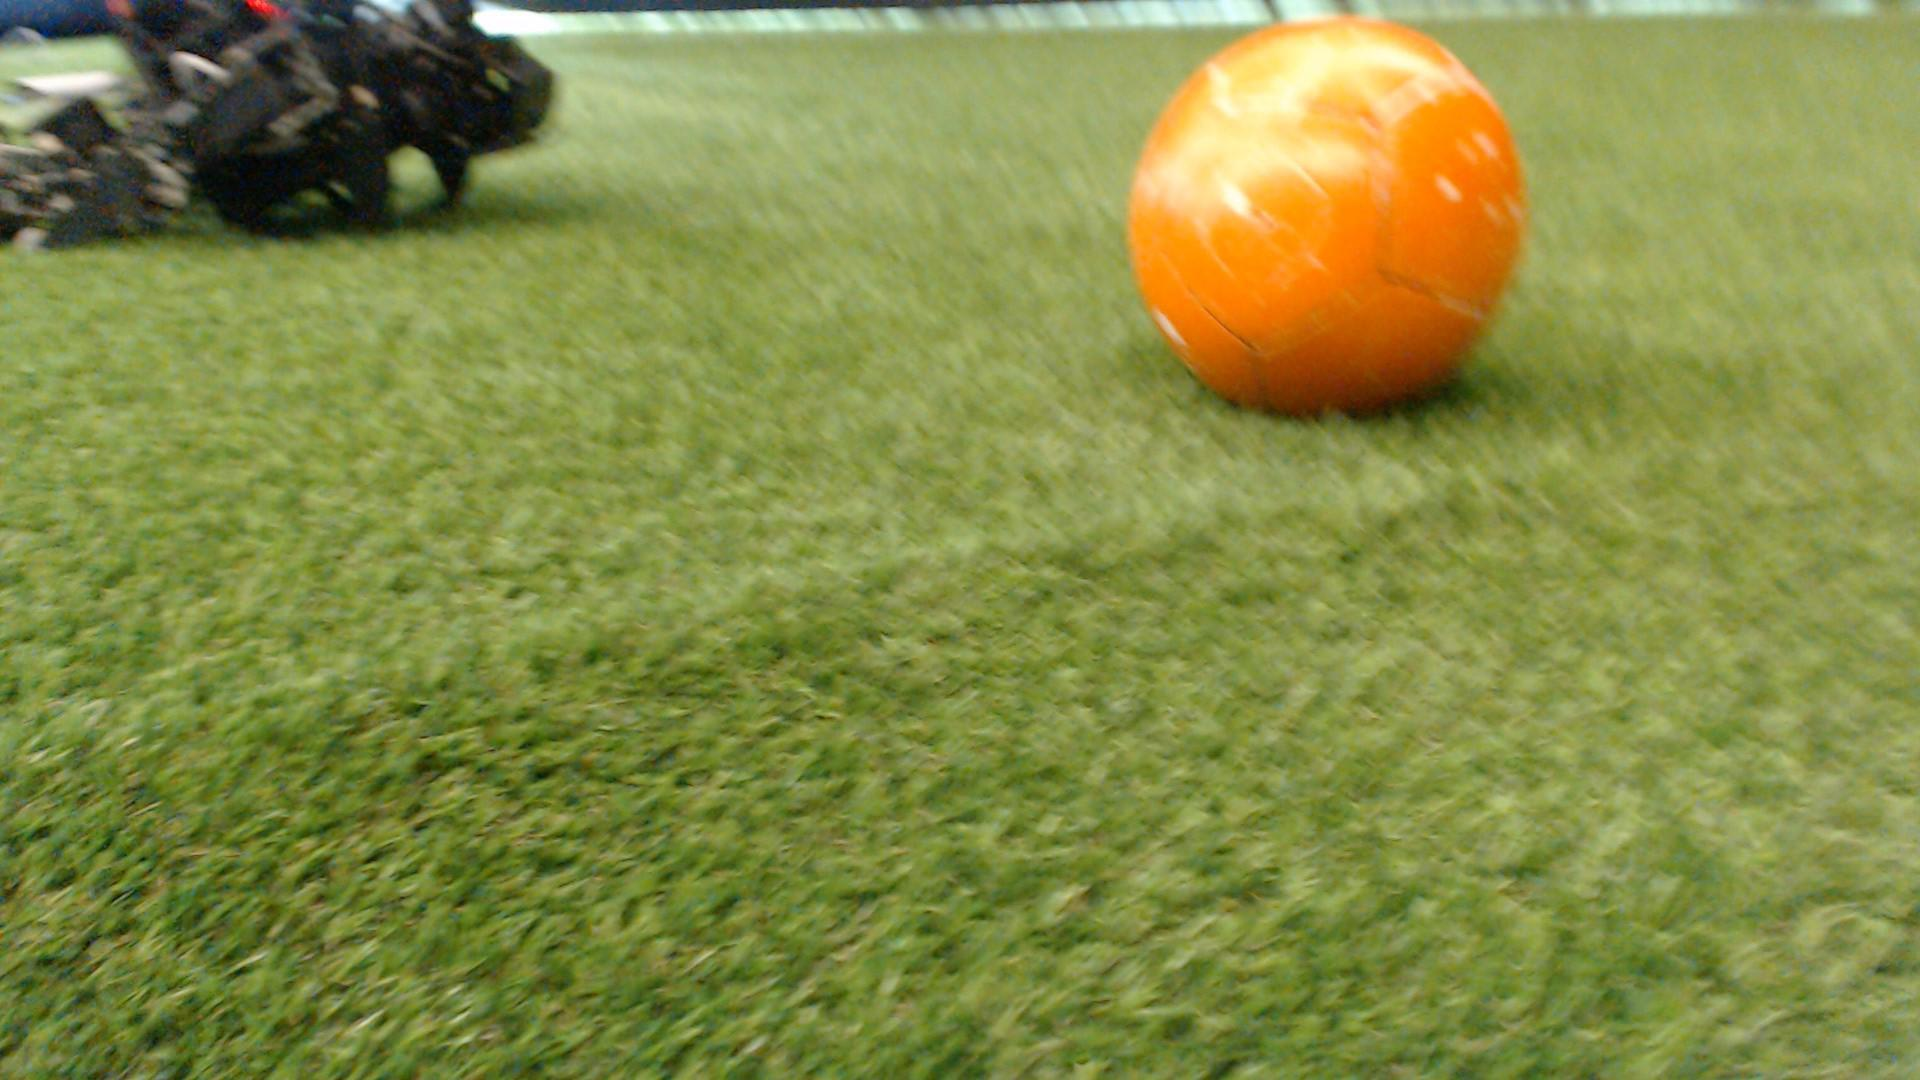bola: (1081, 3, 1578, 450)
